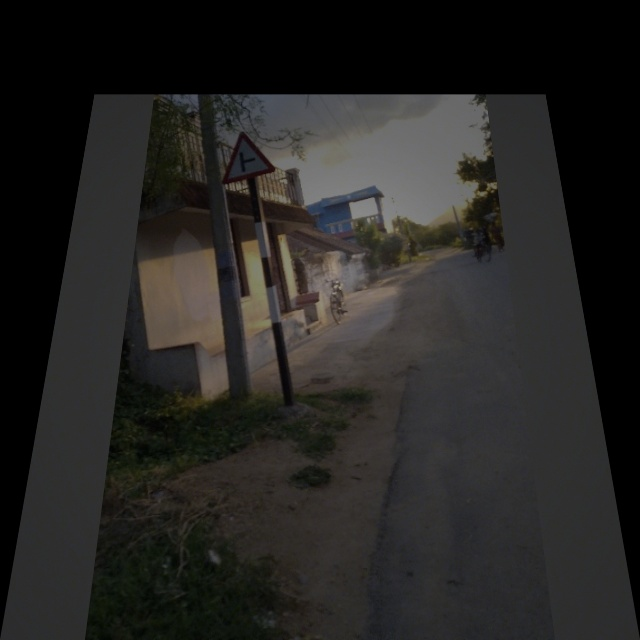Side_Road_Right: (218, 131, 284, 182)
